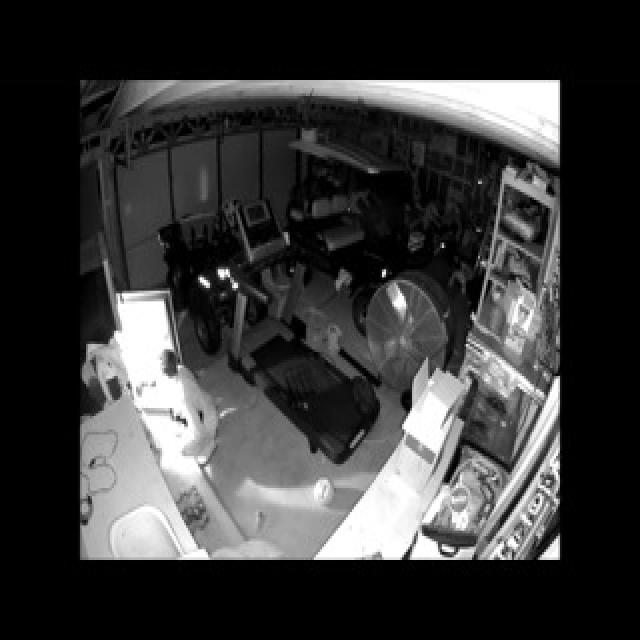thief: (151, 347, 222, 457)
